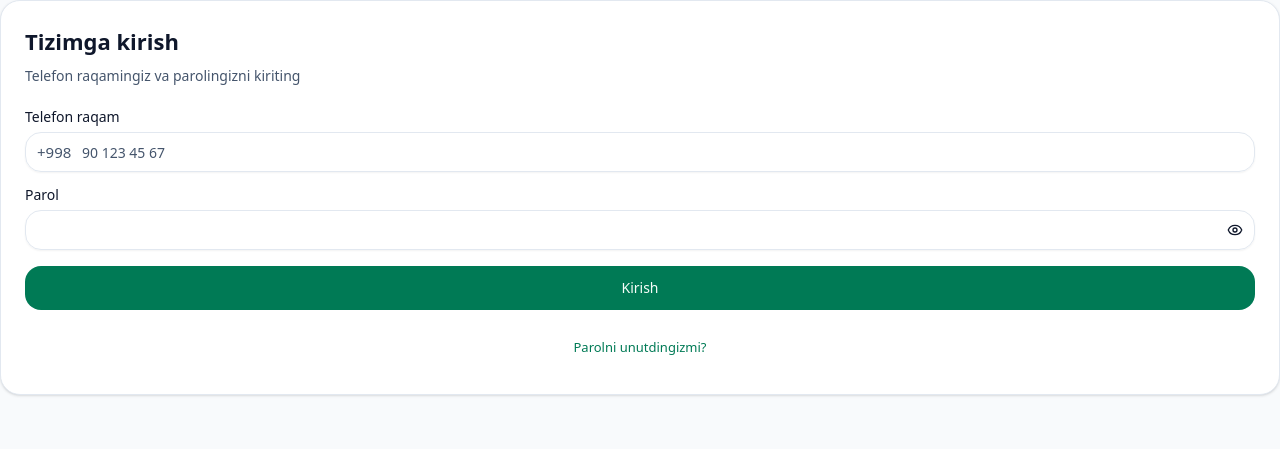
Scenario: LoginPage › noto'g'ri parolda backend xabari ko'rsatiladi
Type "901234567" into the field labelled "Telefon raqam". click: (640, 152)
box: [25,132,1255,172]
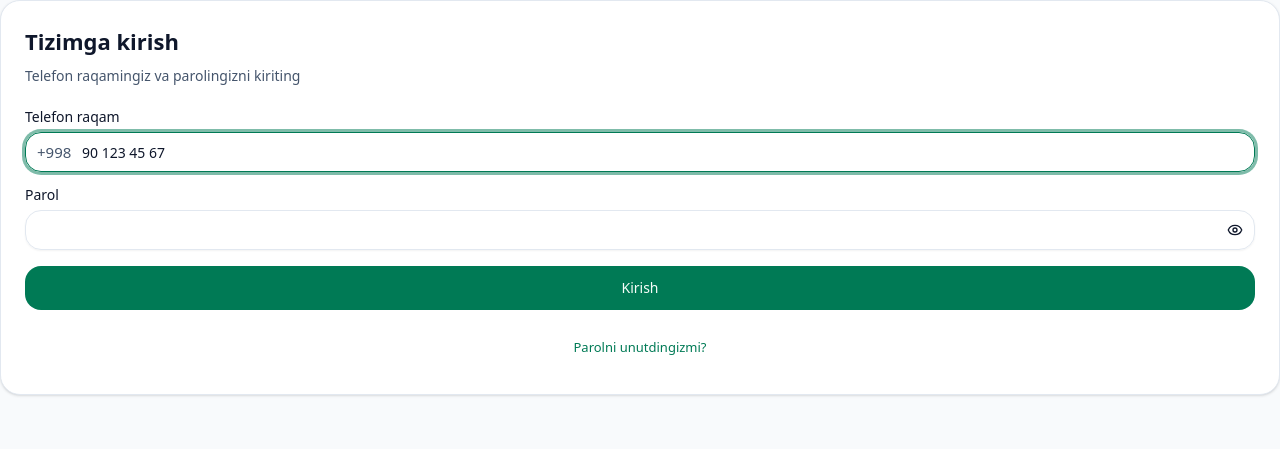
Type "yomonparol" into the password field labelled "Parol". click: (640, 230)
box: [25,210,1255,250]
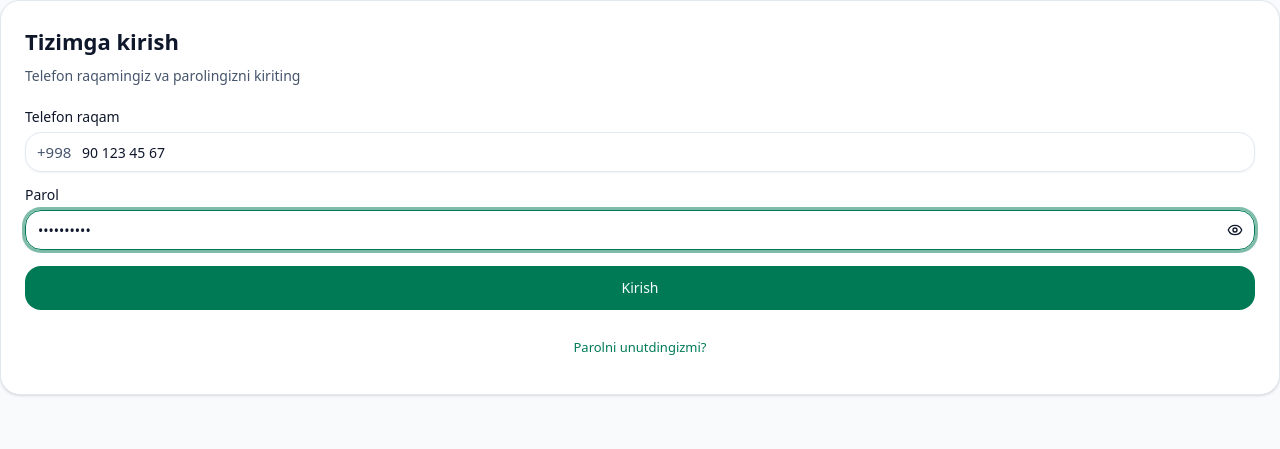
Click the button "Kirish". click: (640, 288)
box: [25,266,1255,310]
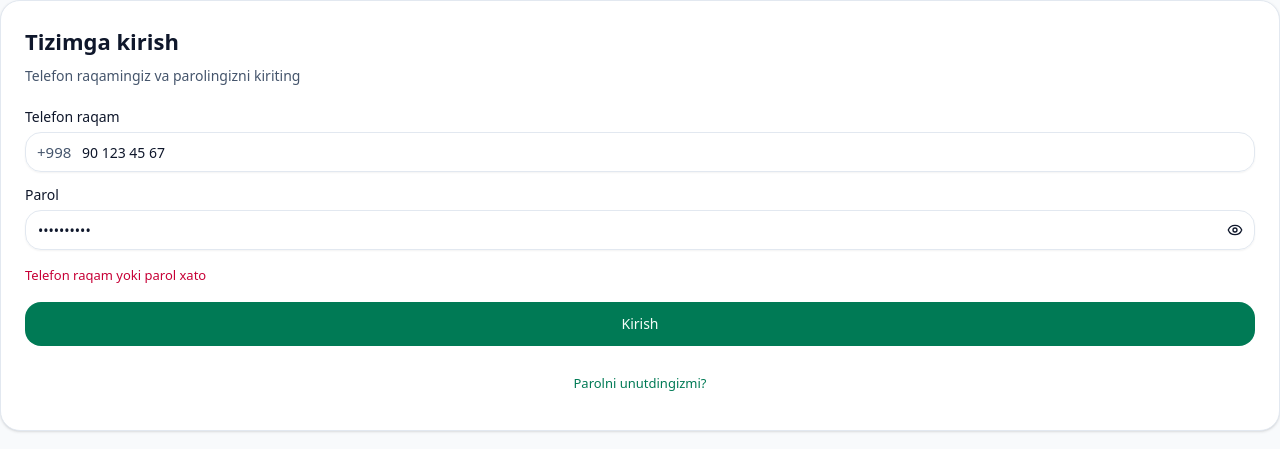
Now the text "Telefon raqam yoki parol xato" is shown, box [25,266,206,284]
